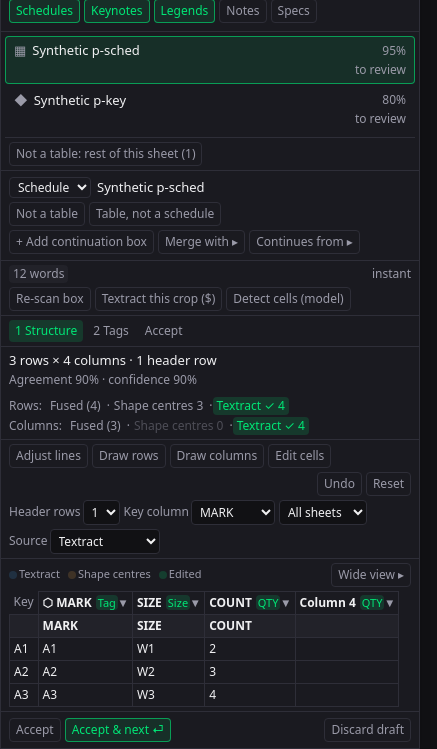
Test case: click paths (PLAN §3.3) › A · schedule from a proposal: pin a source, set header rows and QTY, Accept → the ops ride on the machine base
The width and height of the screenshot is (437, 749).
Earlier steps of the test are not shown.
(page scrolled)
Expected: the text "3 rows × 4 columns · 1 header row" is shown, [9,351,217,369]
Click the button "Accept": (35, 730) [9,718,61,742]
(page scrolled)
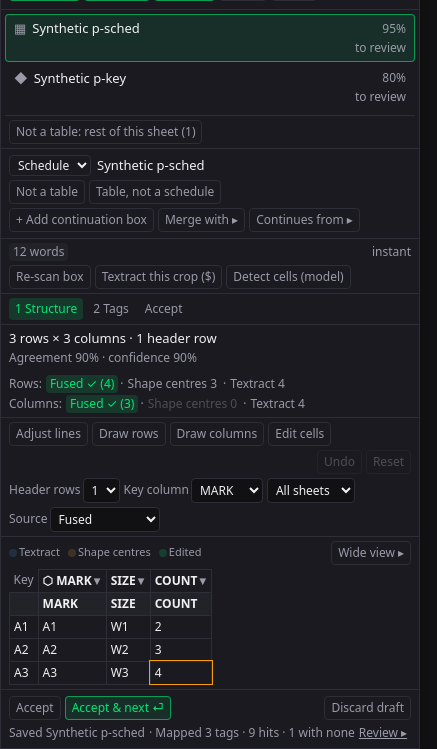
Now the text "· Mapped 3 tags · 9 hits · 1 with none" is shown, box [149,724,355,742]
